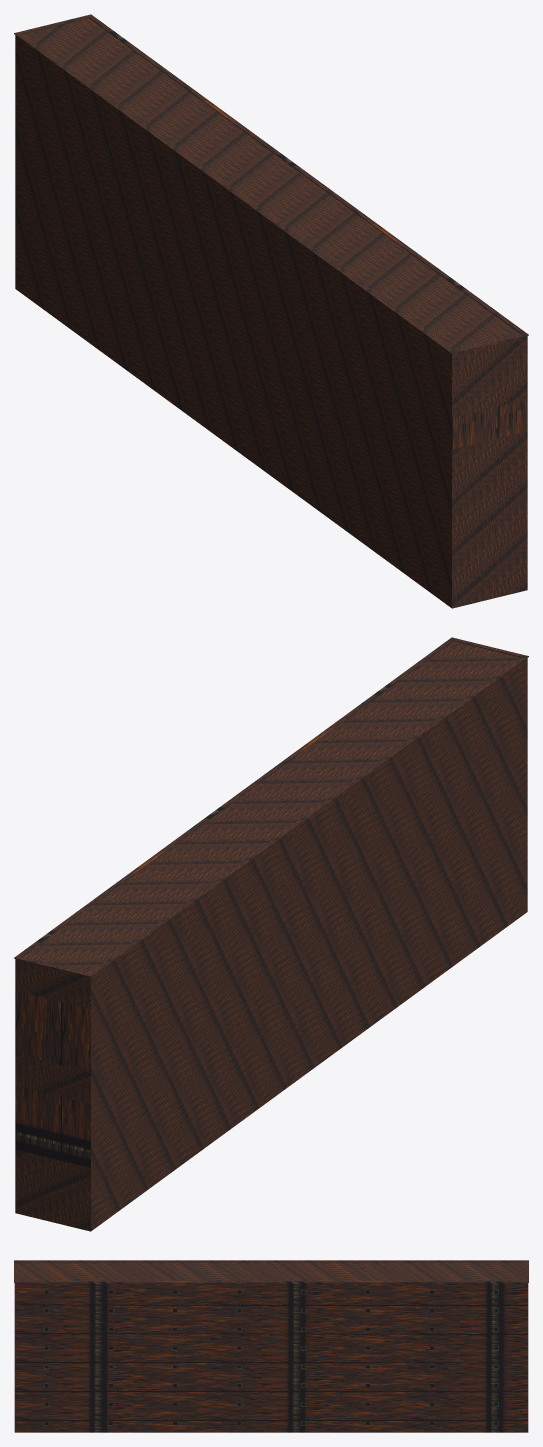
File: bil9.glb
The picture shows the model from 3 angles, top to bottom: view 1: azimuth 30°, elevation 25°; view 2: azimuth 150°, elevation 25°; view 3: azimuth 270°, elevation 25°; orthographic projection. The views are drawn at different scales.
Parts seen in each view (by area): view 1: building_013; view 2: building_013; view 3: building_013.
Boxes of the visible parts, x1,y1,x2,y2 form: building_013: [14, 14, 528, 608]; building_013: [14, 637, 528, 1231]; building_013: [14, 1260, 528, 1432].
Size of the model in its own units: 10.2 by 32.26 by 100.
Materials: 3 (1 with a texture image).
